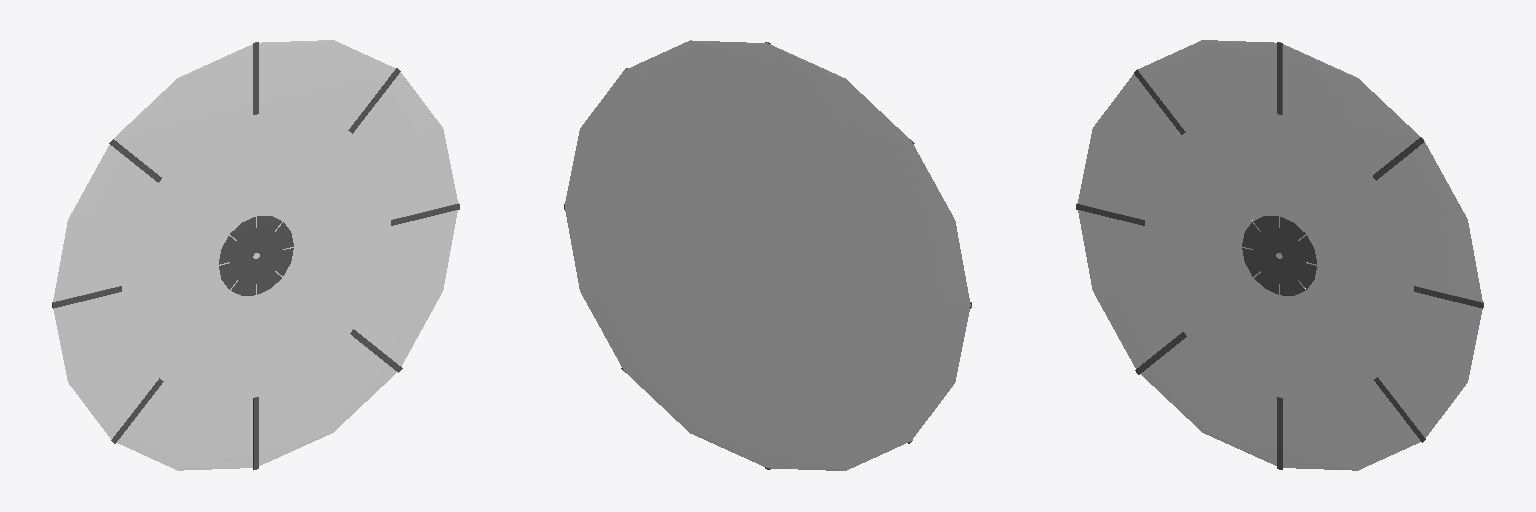
File: SafescopeSafeDoor.obj
3 renders of one model, left to right at view 1: azimuth 30°, elevation 25°; view 2: azimuth 150°, elevation 25°; view 3: azimuth 330°, elevation 25°, orthographic.
Visible parts, largest first — view 1: mesh21, mesh39; view 2: mesh21; view 3: mesh21, mesh39.
Part boxes in pixels (x1,y1,x2,y2): mesh21: (53,40,457,470); mesh39: (219,216,293,295); mesh21: (565,40,970,470); mesh21: (1078,40,1482,470); mesh39: (1242,216,1316,295).
Bounding box in the file's own units: 36.99 × 37.08 × 0.1965.